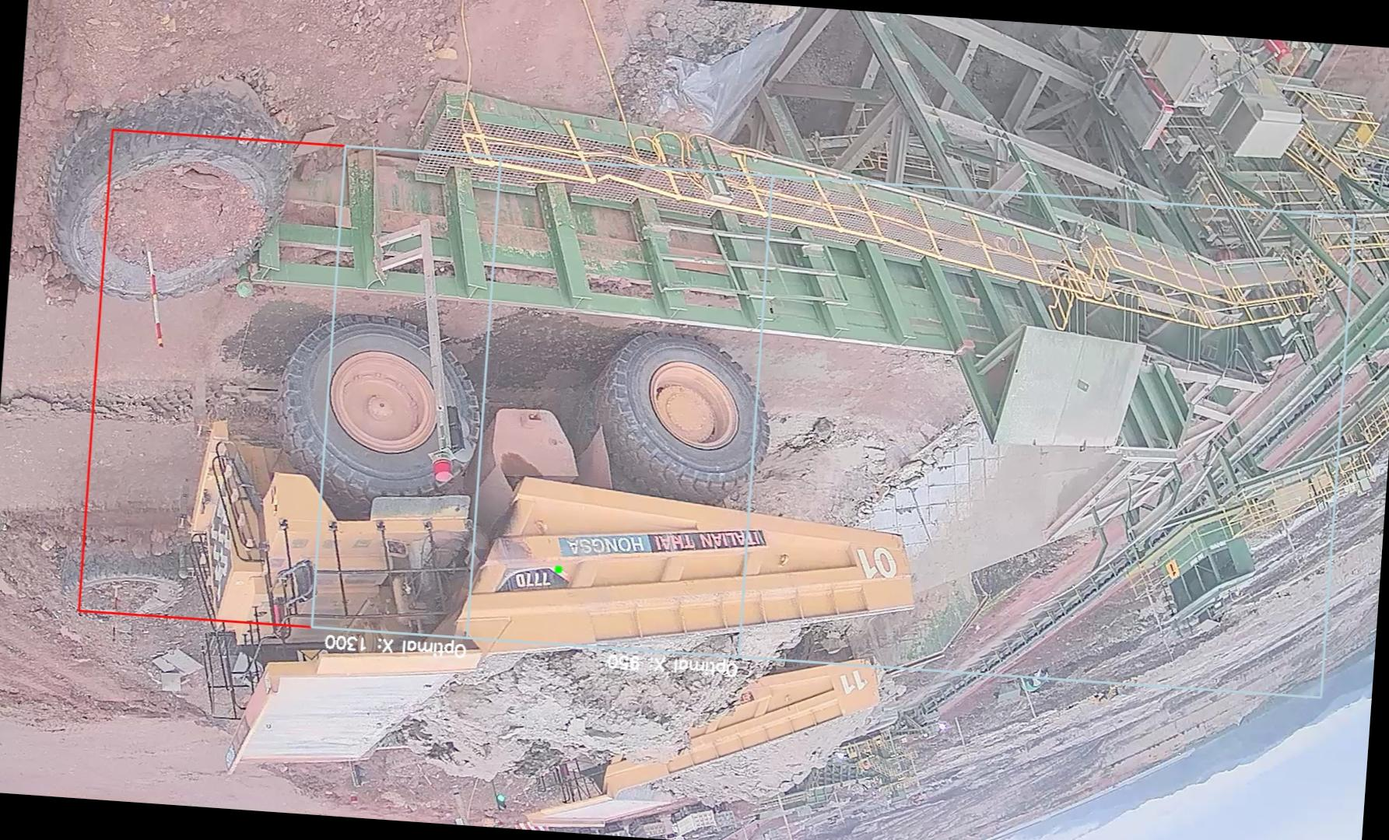company: (546, 507, 774, 575)
full_load: (450, 620, 721, 784)
mining_truck: (139, 306, 947, 840)
tail_number: (843, 529, 904, 593)
truck_size: (488, 554, 575, 607)
